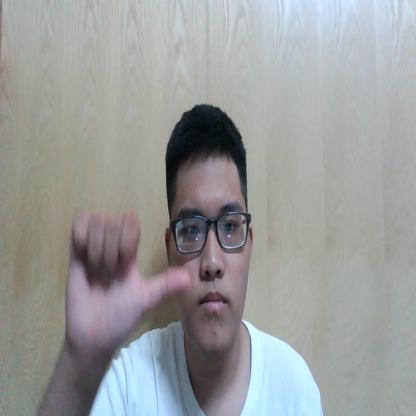left: (63, 206, 191, 358)
